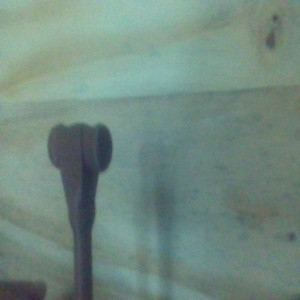palu: (47, 121, 113, 300)
